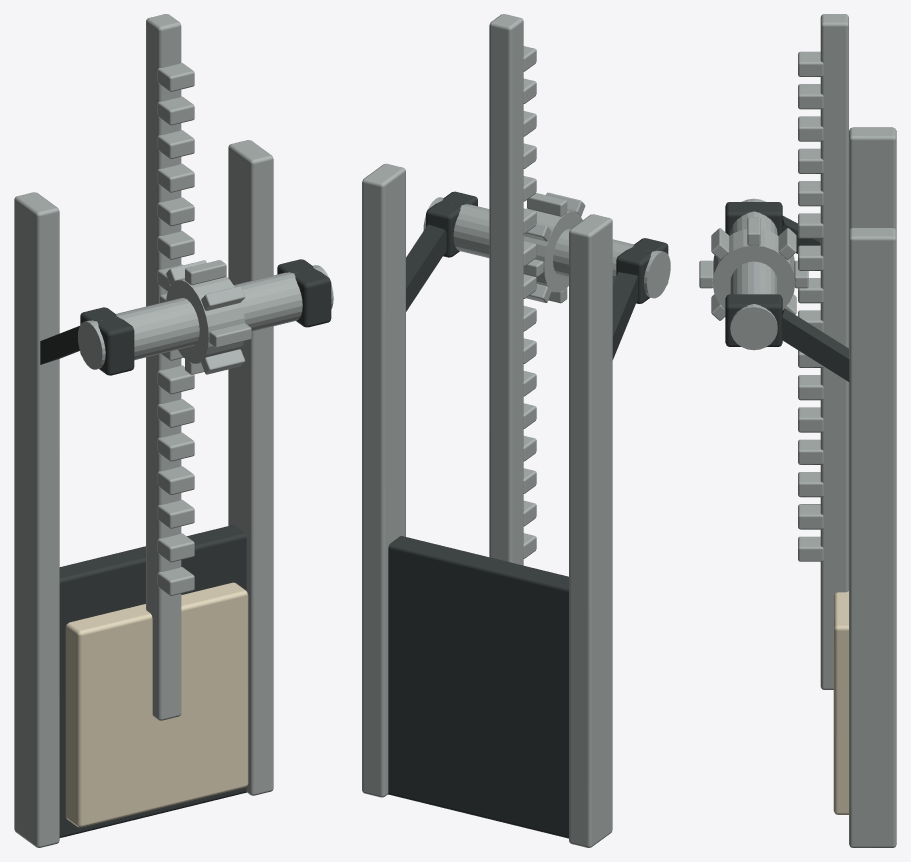
Rendered from canal-boats-and-lock-operations-canal-boats-and-lock-o-f41f66d8__31625.glb.
3 renders of one model, left to right at view 1: azimuth 30°, elevation 25°; view 2: azimuth 150°, elevation 25°; view 3: azimuth 270°, elevation 25°, orthographic. The views are drawn at different scales.
Parts seen in each view (by area): view 1: canal-boats-and-lock-operations-gate-paddle-assembly; view 2: canal-boats-and-lock-operations-gate-paddle-assembly; view 3: canal-boats-and-lock-operations-gate-paddle-assembly.
Part boxes in pixels (box(x1,y1,x2,y2)): canal-boats-and-lock-operations-gate-paddle-assembly: box(14, 14, 333, 847); canal-boats-and-lock-operations-gate-paddle-assembly: box(362, 14, 670, 847); canal-boats-and-lock-operations-gate-paddle-assembly: box(699, 14, 896, 847).
Bounding box in the file's own units: 0.5551 × 1.8 × 0.4149.
